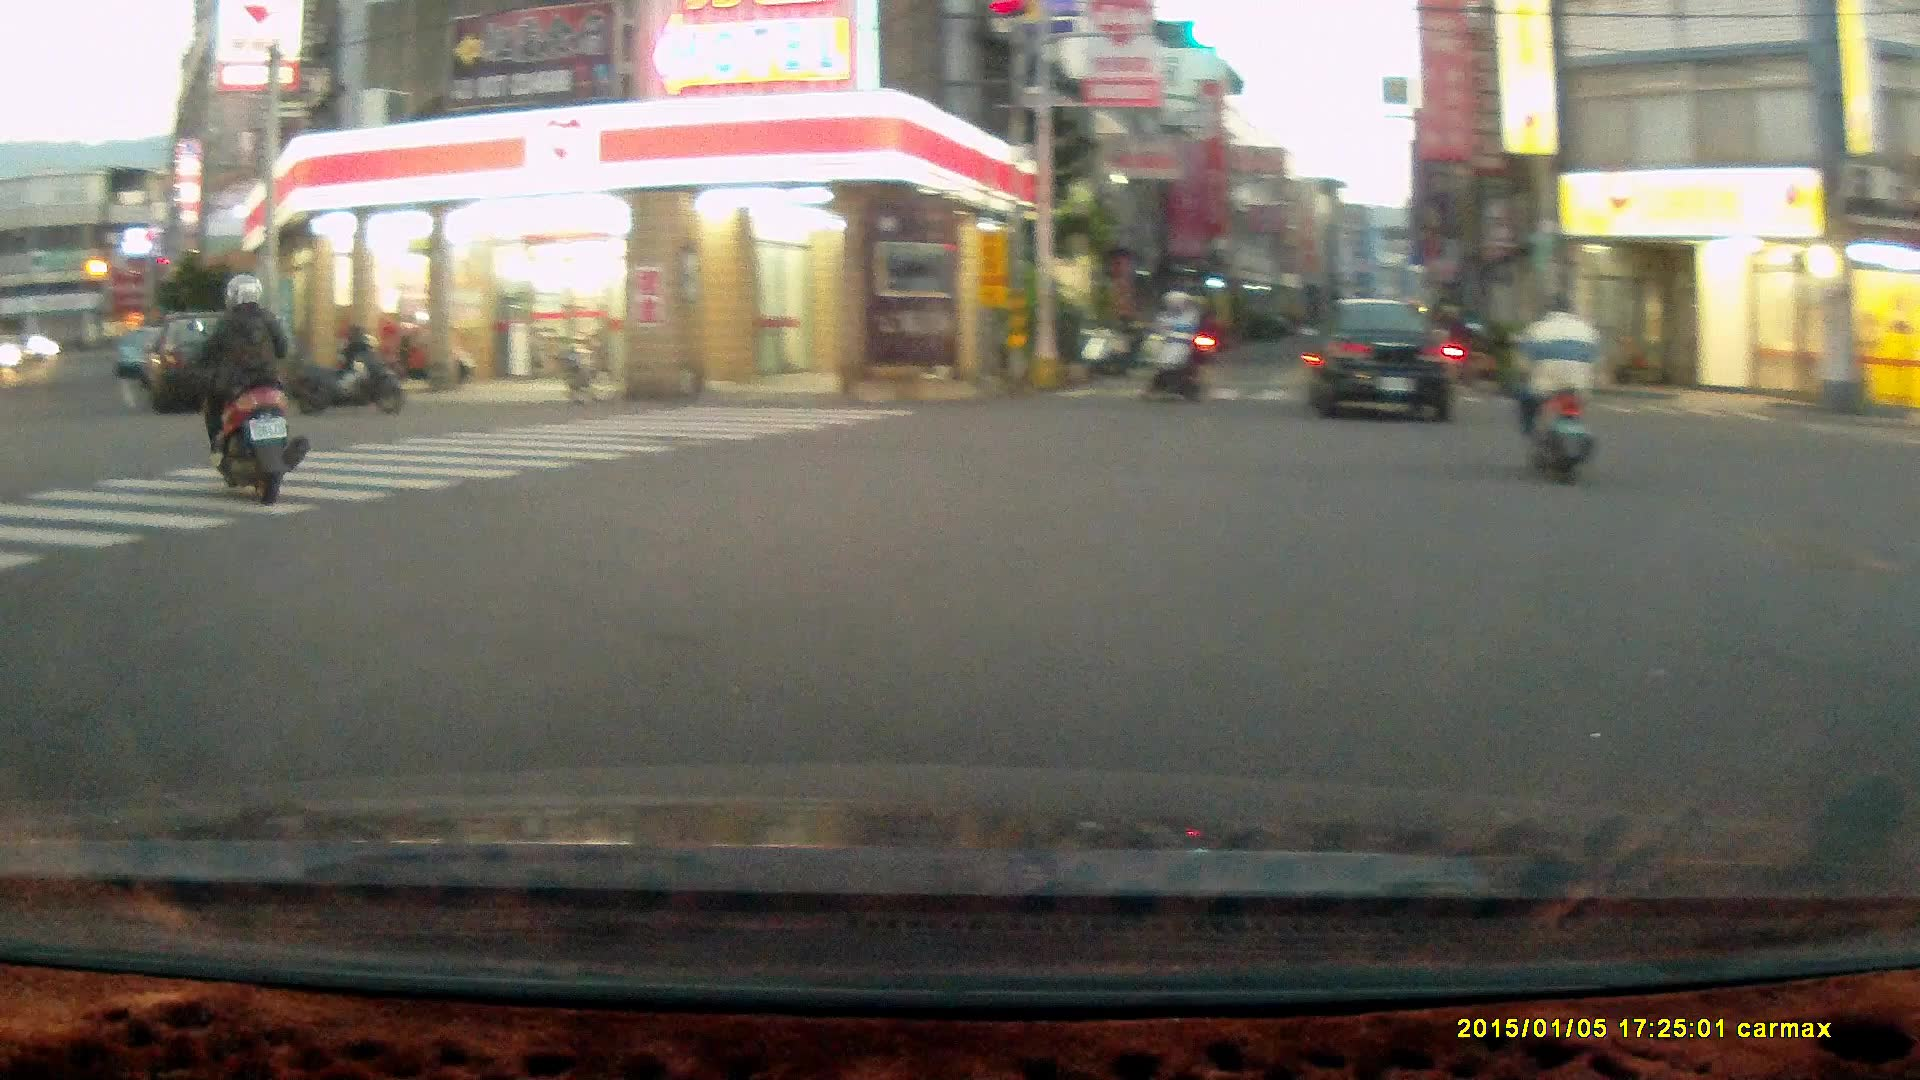rider: (193, 274, 311, 503), (1510, 290, 1604, 489), (1141, 284, 1207, 403)
vehicle: (1309, 297, 1464, 420), (146, 308, 275, 409)
